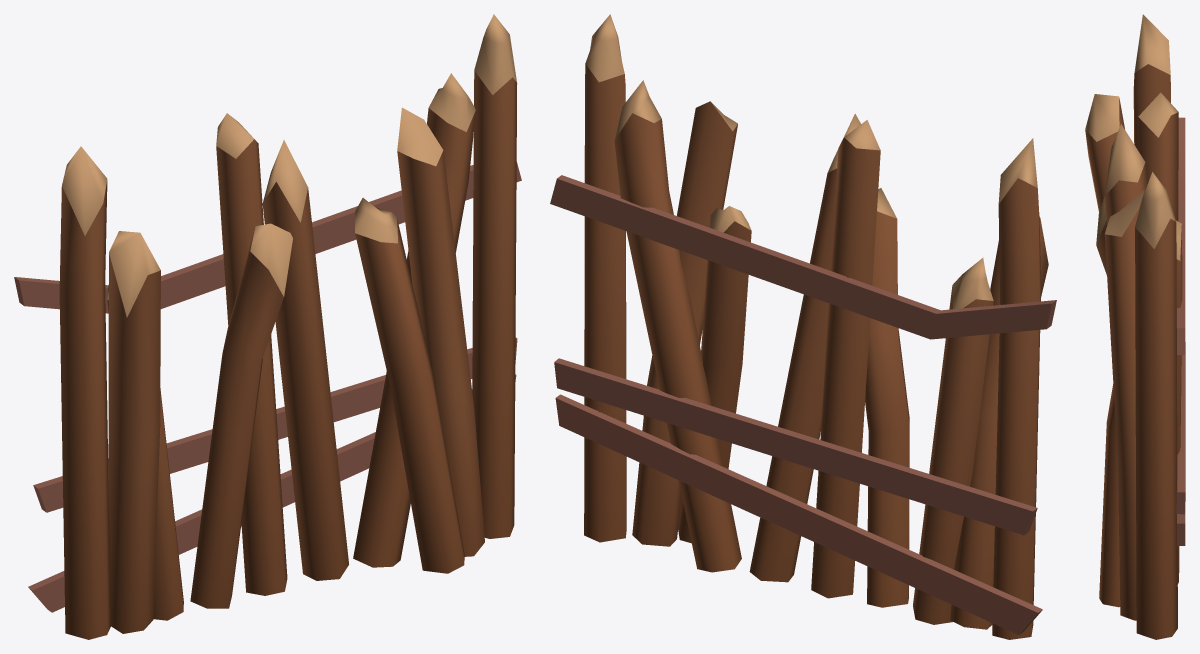
File: Fence_WoodC_G.fbx
3 renders of one model, left to right at view 1: azimuth 30°, elevation 25°; view 2: azimuth 150°, elevation 25°; view 3: azimuth 270°, elevation 25°, orthographic. The views are drawn at different scales.
Visible parts, largest first — view 1: Fence_WoodC_G; view 2: Fence_WoodC_G; view 3: Fence_WoodC_G.
Boxes of the visible parts, <box> form: Fence_WoodC_G: <box>14,14,521,639</box>; Fence_WoodC_G: <box>550,14,1056,639</box>; Fence_WoodC_G: <box>1085,14,1185,639</box>.
Bounding box in the file's own units: 574 × 570 × 112.
